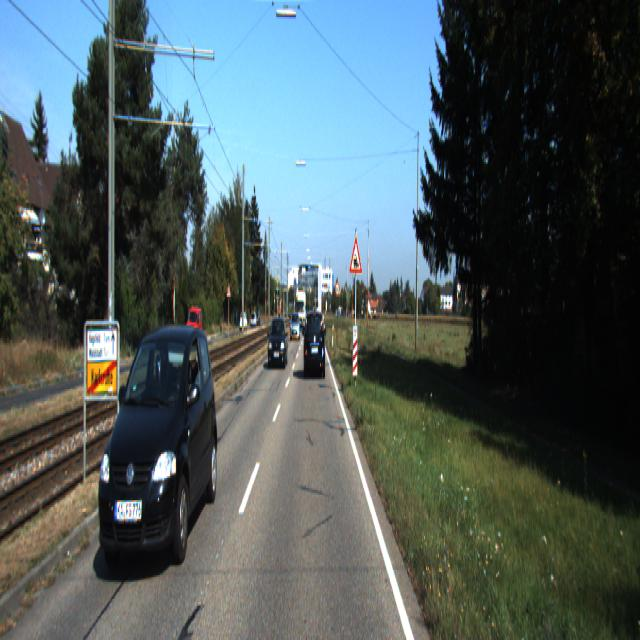Car: (98, 314, 221, 575), (305, 307, 326, 379), (268, 313, 289, 370), (186, 305, 203, 345), (290, 310, 300, 340)
